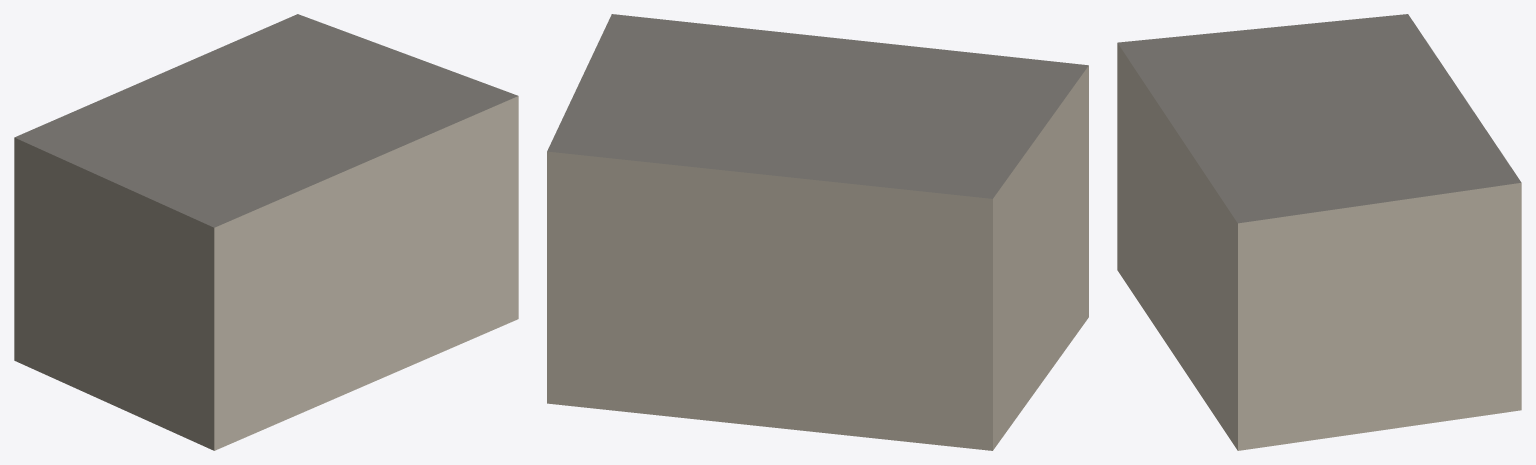
The picture shows the model from 3 angles, left to right: view 1: azimuth 30°, elevation 25°; view 2: azimuth 150°, elevation 25°; view 3: azimuth 270°, elevation 25°; orthographic projection. The views are drawn at different scales.
Parts seen in each view (by area): view 1: HP-w439877627; view 2: HP-w439877627; view 3: HP-w439877627.
Boxes of the visible parts, bbox=[...] form: HP-w439877627: bbox=[14, 14, 518, 450]; HP-w439877627: bbox=[547, 14, 1088, 450]; HP-w439877627: bbox=[1117, 14, 1521, 450].
Size of the model in its own units: 35.52 by 18 by 28.98.
